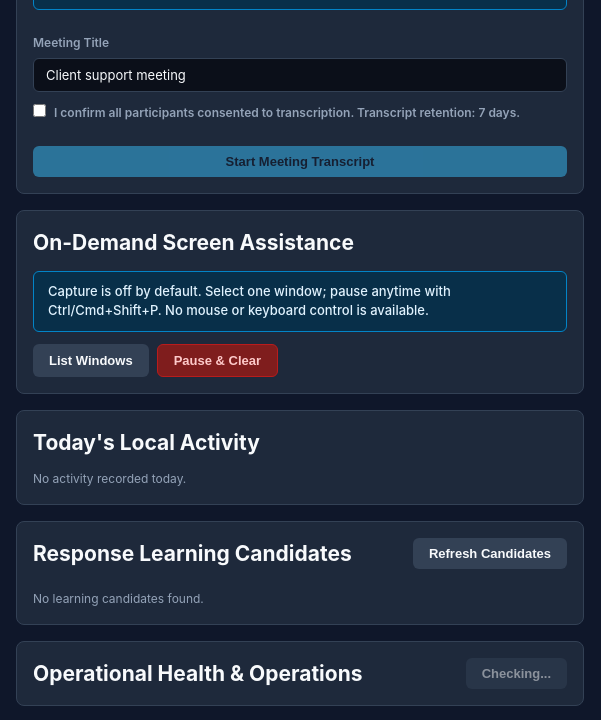
it: Desktop Overlay App Component › requires explicit window selection before on-demand screen capture
The image size is (601, 720).
(page scrolled)
Click the button "List Windows" at (91, 360), box top-left (33, 344), bottom-right (149, 376)
(page scrolled)
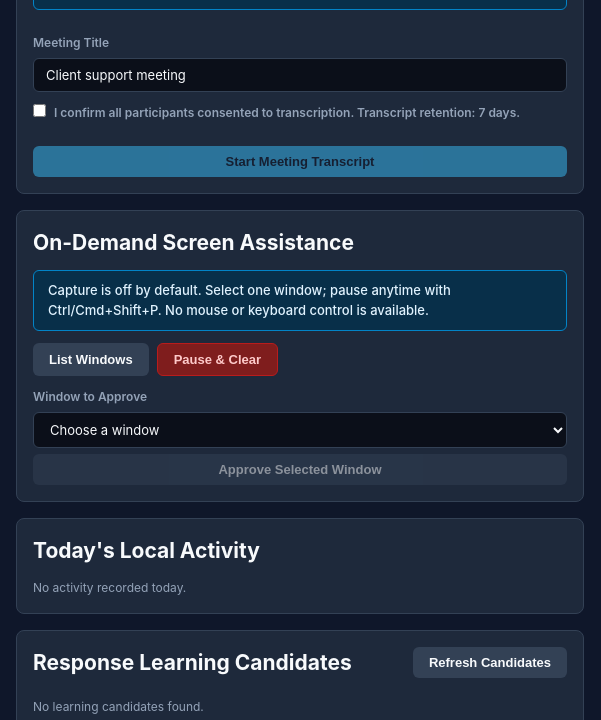
Expected: the button "Capture One Screenshot" is not shown
Select "Support Portal" in the dropdown labelled "Window to Approve" at (300, 430), box top-left (33, 412), bottom-right (567, 448)
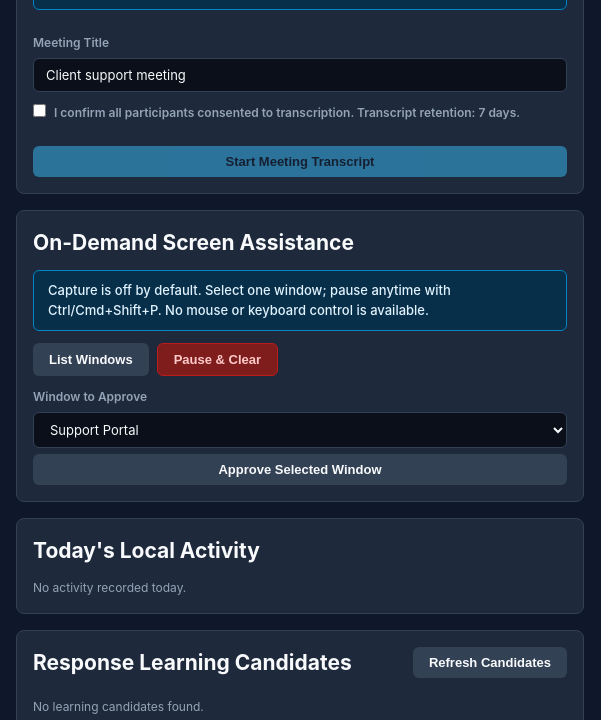
Click the button "Approve Selected Window" at (300, 470), box top-left (33, 454), bottom-right (567, 485)
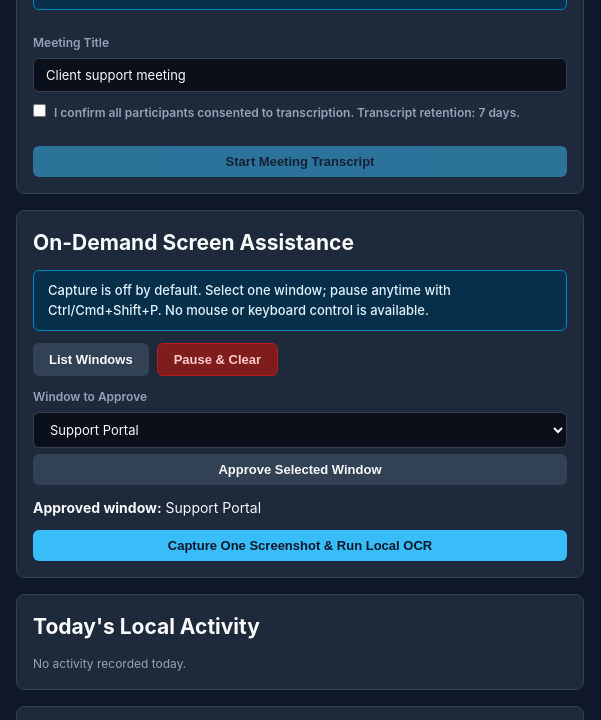
Now the button "Capture One Screenshot & Run Local OCR" is shown, box top-left (33, 530), bottom-right (567, 561)
